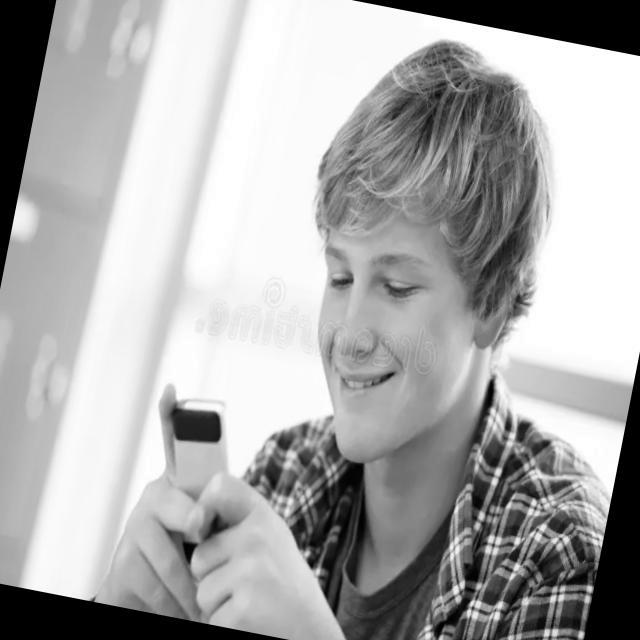phone: (144, 391, 252, 575)
